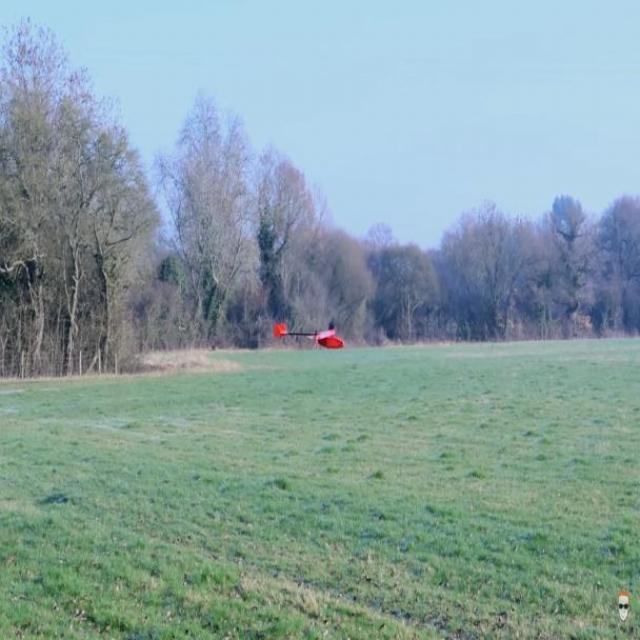iha: (301, 305, 313, 347)
